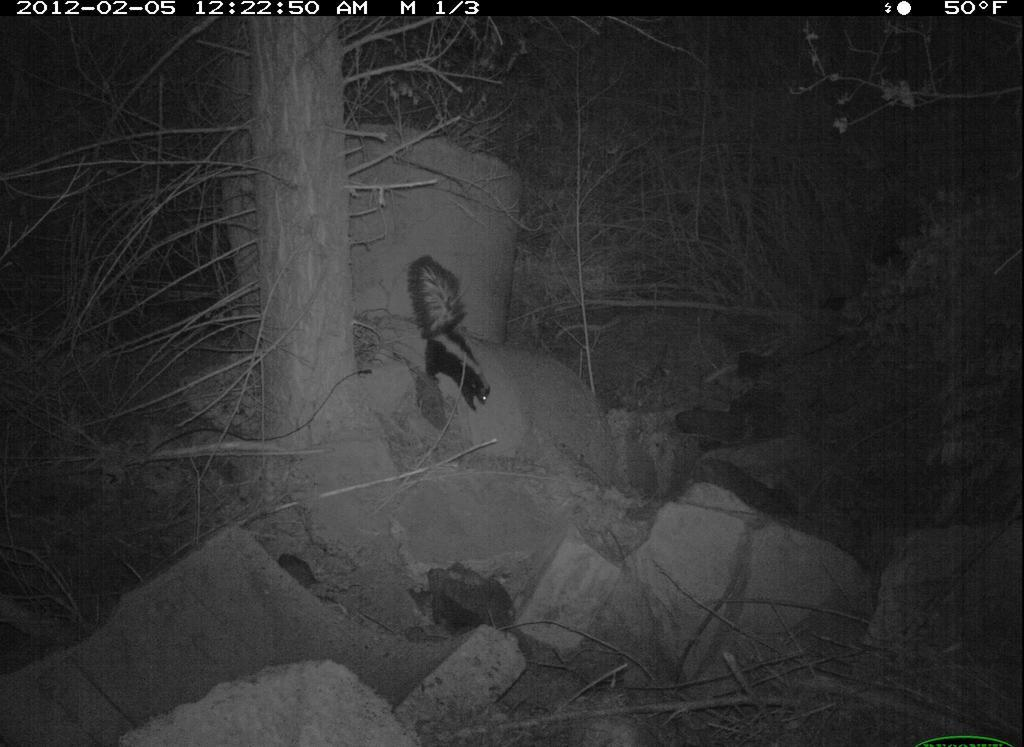skunk: (405, 255, 536, 463)
